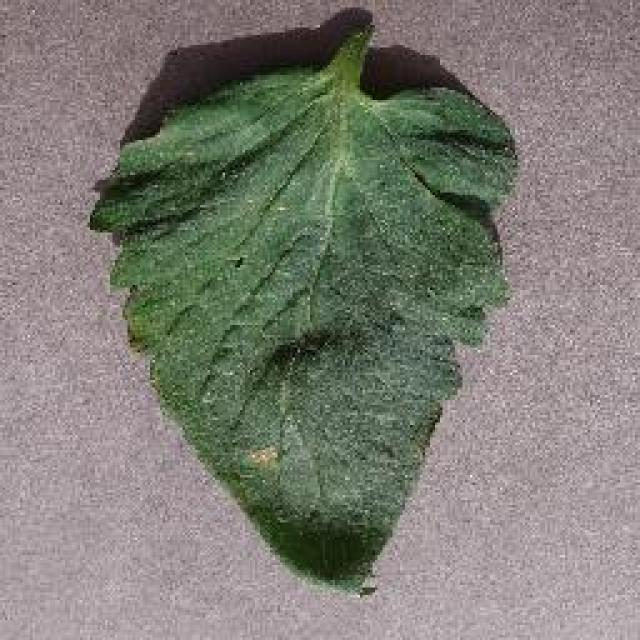Tomato___Target_Spot: (90, 20, 515, 595)
